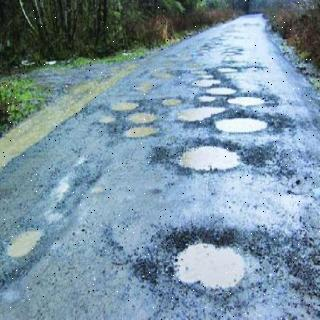pothole: (179, 244, 245, 288), (182, 148, 240, 170), (216, 119, 268, 132), (177, 107, 224, 121), (124, 112, 158, 125), (228, 98, 280, 106), (126, 127, 154, 138), (196, 78, 218, 87), (116, 103, 138, 112), (161, 98, 182, 107), (206, 88, 232, 95), (138, 114, 156, 123), (217, 66, 240, 73)
